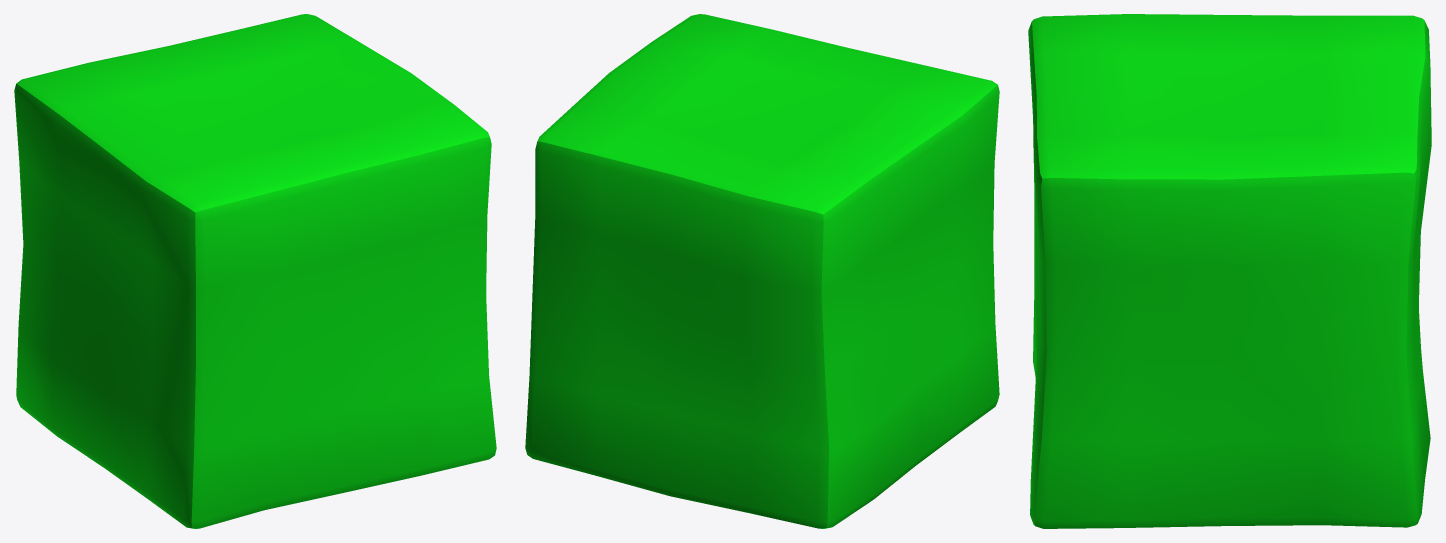
Rendered from MainSlime.fbx.
3 renders of one model, left to right at view 1: azimuth 30°, elevation 25°; view 2: azimuth 150°, elevation 25°; view 3: azimuth 270°, elevation 25°, orthographic. The views are drawn at different scales.
Parts seen in each view (by area): view 1: Cube.040; view 2: Cube.040; view 3: Cube.040.
Boxes of the visible parts, box(x1,y1,x2,y2) form: Cube.040: box(14, 14, 496, 528); Cube.040: box(525, 14, 999, 528); Cube.040: box(1028, 14, 1431, 528).
Bounding box in the file's own units: 2579 × 2526 × 2581.
